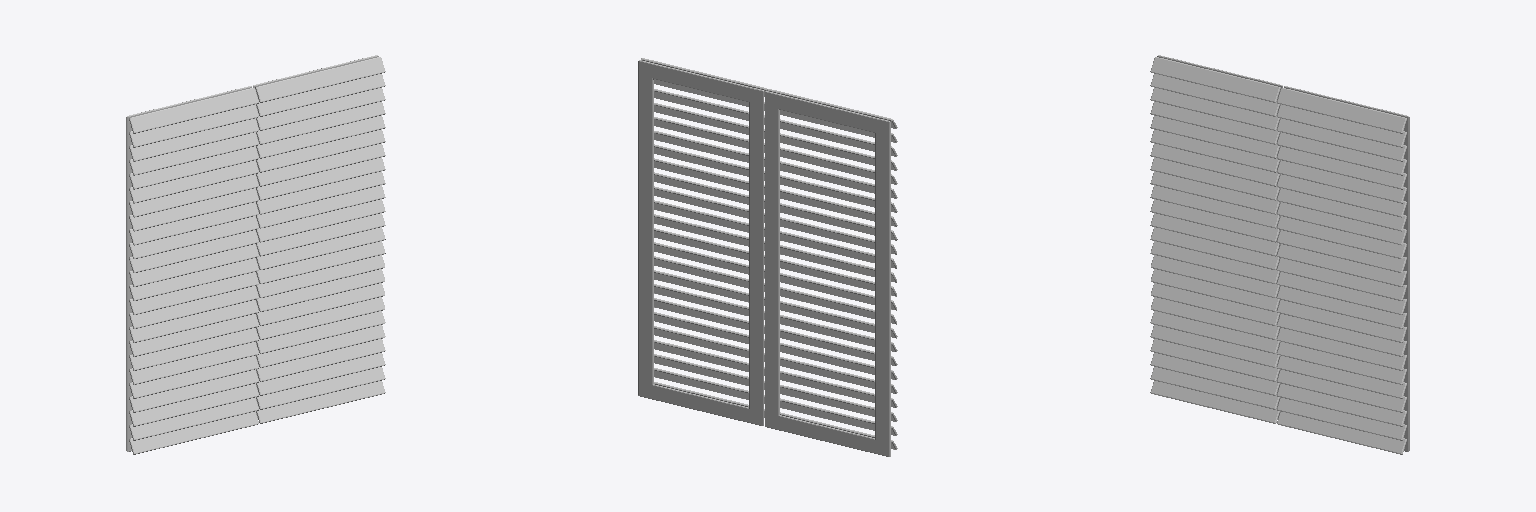
File: Tapparelle.obj
3 views of the same model, side by side, from view 1: azimuth 30°, elevation 25°; view 2: azimuth 150°, elevation 25°; view 3: azimuth 330°, elevation 25° (orthographic).
Parts seen in each view (by area): view 1: Tapparelle; view 2: Tapparelle; view 3: Tapparelle.
Part boxes in pixels (bbox=[...]): Tapparelle: bbox=[126, 55, 385, 454]; Tapparelle: bbox=[638, 58, 897, 456]; Tapparelle: bbox=[1150, 55, 1409, 454].
Size of the model in its own units: 1.04 by 1.33 by 0.0574.